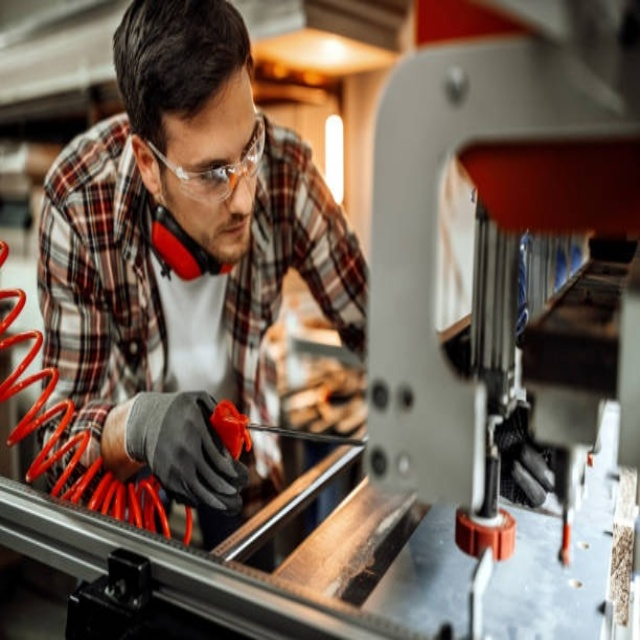Gafas: (143, 110, 264, 203)
Guantes: (124, 388, 253, 515), (494, 404, 556, 510)
Sin_mascara: (206, 212, 254, 260)
